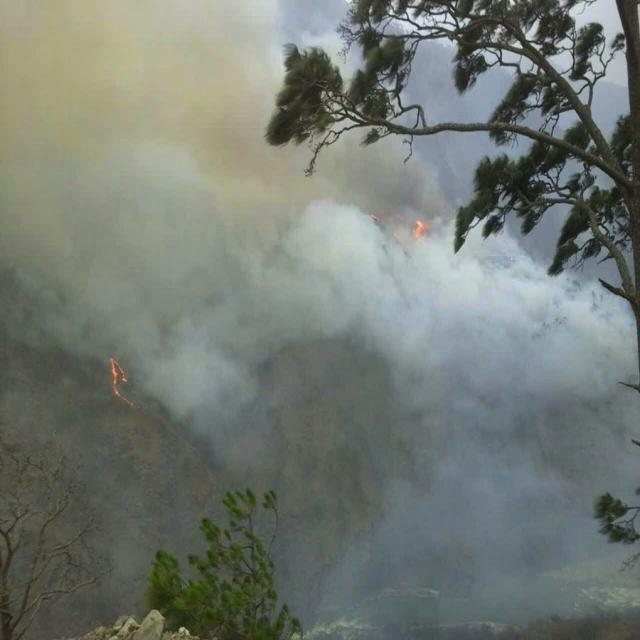Fire: (104, 356, 134, 409), (408, 218, 430, 238)
Smoke: (0, 0, 640, 611)
